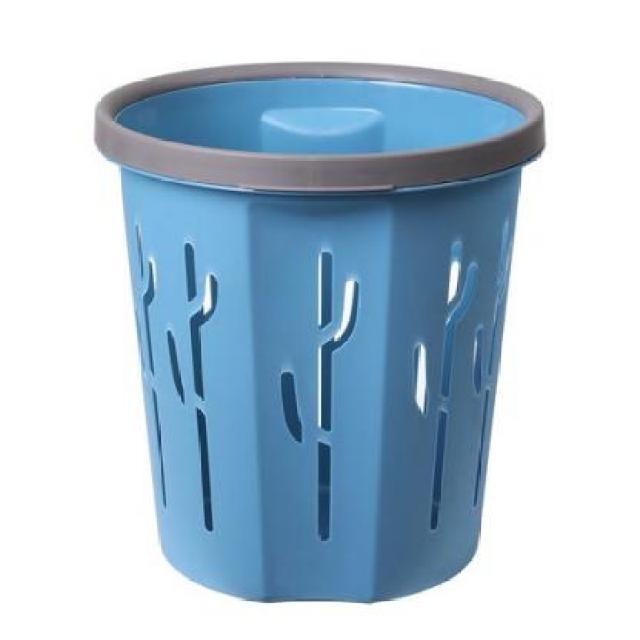dustbin: (88, 55, 550, 613)
